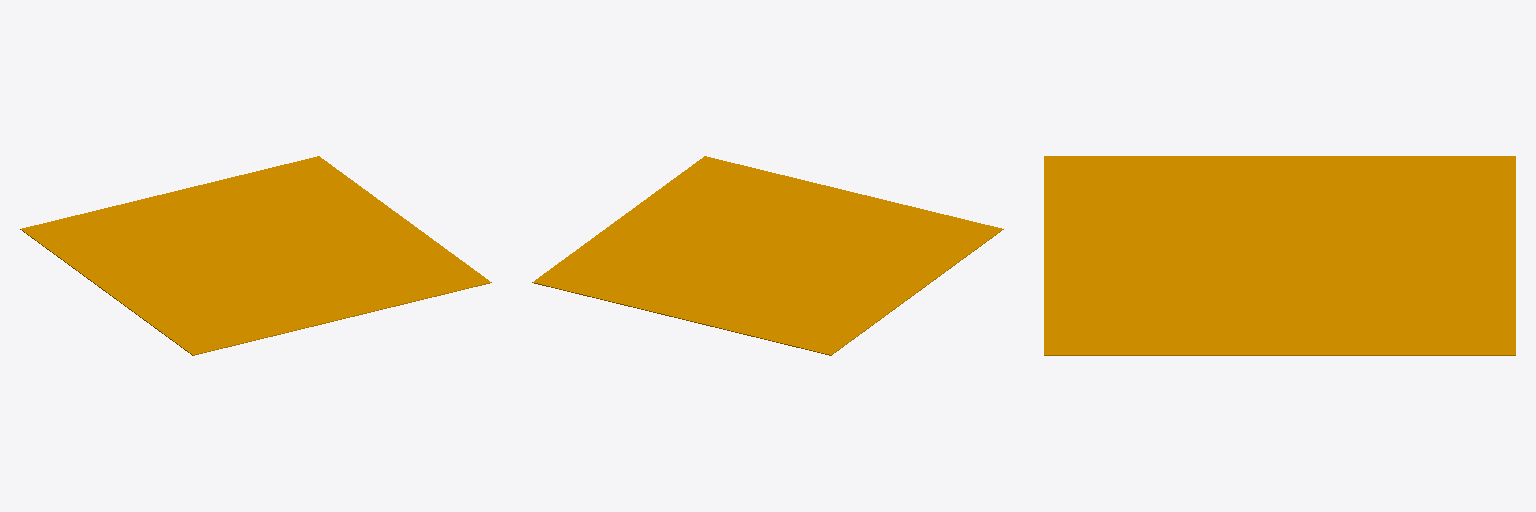
robot.urdf — table:
<?xml version="1.0"?>
<robot name="table">
  <link name="table">
    <visual>
      <origin xyz="0 0 0"/>
      <geometry>
        <box size="1.9 1.9 0.005"/>
      </geometry>
    </visual>
    <collision>
      <origin xyz="0 0 0"/>
      <geometry>
        <box size="1.9 1.9 0.005"/>
      </geometry>
    </collision>
    <inertial>
      <mass value="0.0"/>
      <friction value="0.0"/>
      <inertia ixx="0.0" ixy="0.0" ixz="0.0" iyy="0.0" iyz="0.0" izz="0.0"/>
    </inertial>
  </link>
</robot>

--- What the picture shows (computed from the rendered views, not written in the file) ---
Views: 3 orthographic renders of the robot side by side, from view 1: azimuth 30°, elevation 25°; view 2: azimuth 150°, elevation 25°; view 3: azimuth 270°, elevation 25°.
Model table with 1 links and 0 joints (none), rooted at table, posed every joint at zero.
Links seen in each view (by area): view 1: table; view 2: table; view 3: table.
Boxes of the visible links, x1,y1,x2,y2 form: table: (20,156,491,355); table: (532,156,1003,355); table: (1044,156,1515,355).
Size in the robot's own frame: 1.9 by 1.9 by 0.005 metres.
Geometry: primitives only (box / cylinder / sphere), no mesh files.
